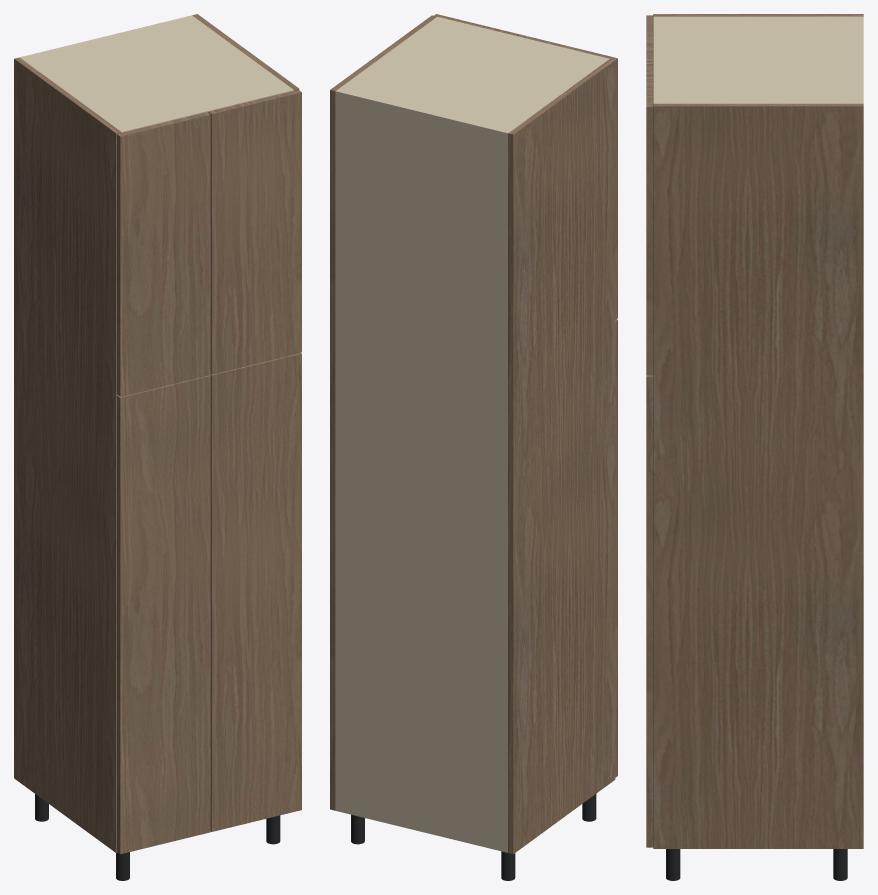
File: oppein-ply-mnw-pc2490.glb
3 views of the same model, side by side, from view 1: azimuth 30°, elevation 25°; view 2: azimuth 150°, elevation 25°; view 3: azimuth 270°, elevation 25° (orthographic). The views are drawn at different scales.
Parts seen in each view (by area): view 1: Cabinet side, Door, Door.001, Door.002, Door.003, Cabinet top, Cabinet side.001; view 2: Cabinet back, Cabinet side, Cabinet top, Cabinet side.001, Door, Door.002; view 3: Cabinet side.001, Cabinet top, Door.001, Door.003, Cabinet side, Adjustable foot.003, Adjustable foot.002.
Boxes of the visible parts, <box> form: Cabinet side: <box>14,57,121,852</box>; Door: <box>117,375,210,854</box>; Door.001: <box>210,353,301,831</box>; Door.002: <box>117,112,210,396</box>; Door.003: <box>208,89,301,374</box>; Cabinet top: <box>21,16,293,132</box>; Cabinet side.001: <box>192,14,299,90</box>; Cabinet back: <box>335,89,509,852</box>; Cabinet side: <box>508,59,615,854</box>; Cabinet top: <box>336,16,609,131</box>; Cabinet side.001: <box>330,15,436,810</box>; Door: <box>615,319,617,777</box>; Door.002: <box>525,36,617,319</box>; Cabinet side.001: <box>653,103,863,848</box>; Cabinet top: <box>653,16,859,103</box>; Door.001: <box>646,375,653,847</box>; Door.003: <box>646,61,653,375</box>; Cabinet side: <box>653,14,863,16</box>; Adjustable foot.003: <box>666,849,680,880</box>; Adjustable foot.002: <box>833,849,847,880</box>.
Size of the model in its own units: 0.6096 by 2.4 by 0.6064.
3 materials, 1 textured.
